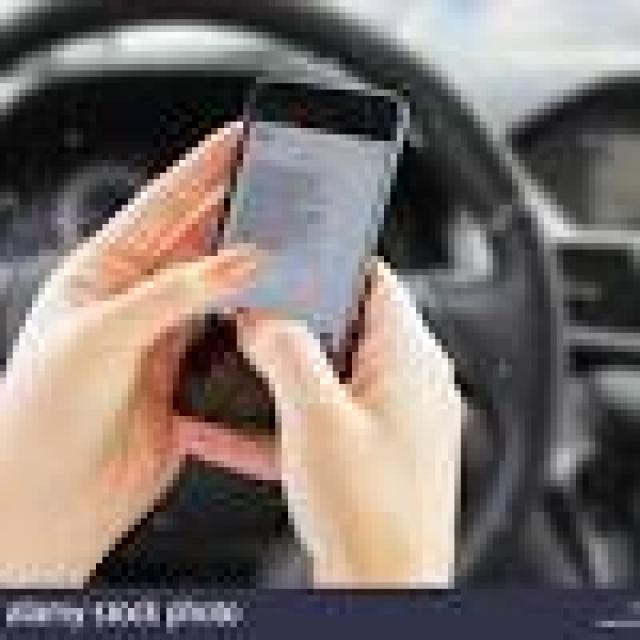Cellphone_texting: (128, 64, 448, 589)
